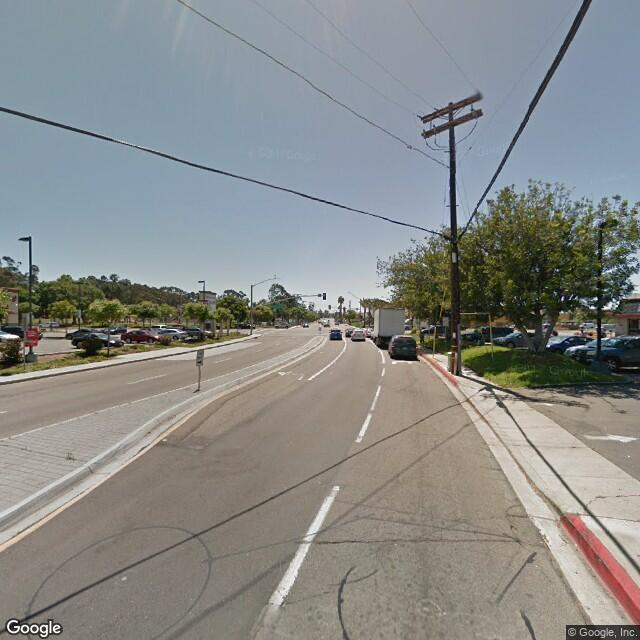litter: (161, 438, 169, 443)
